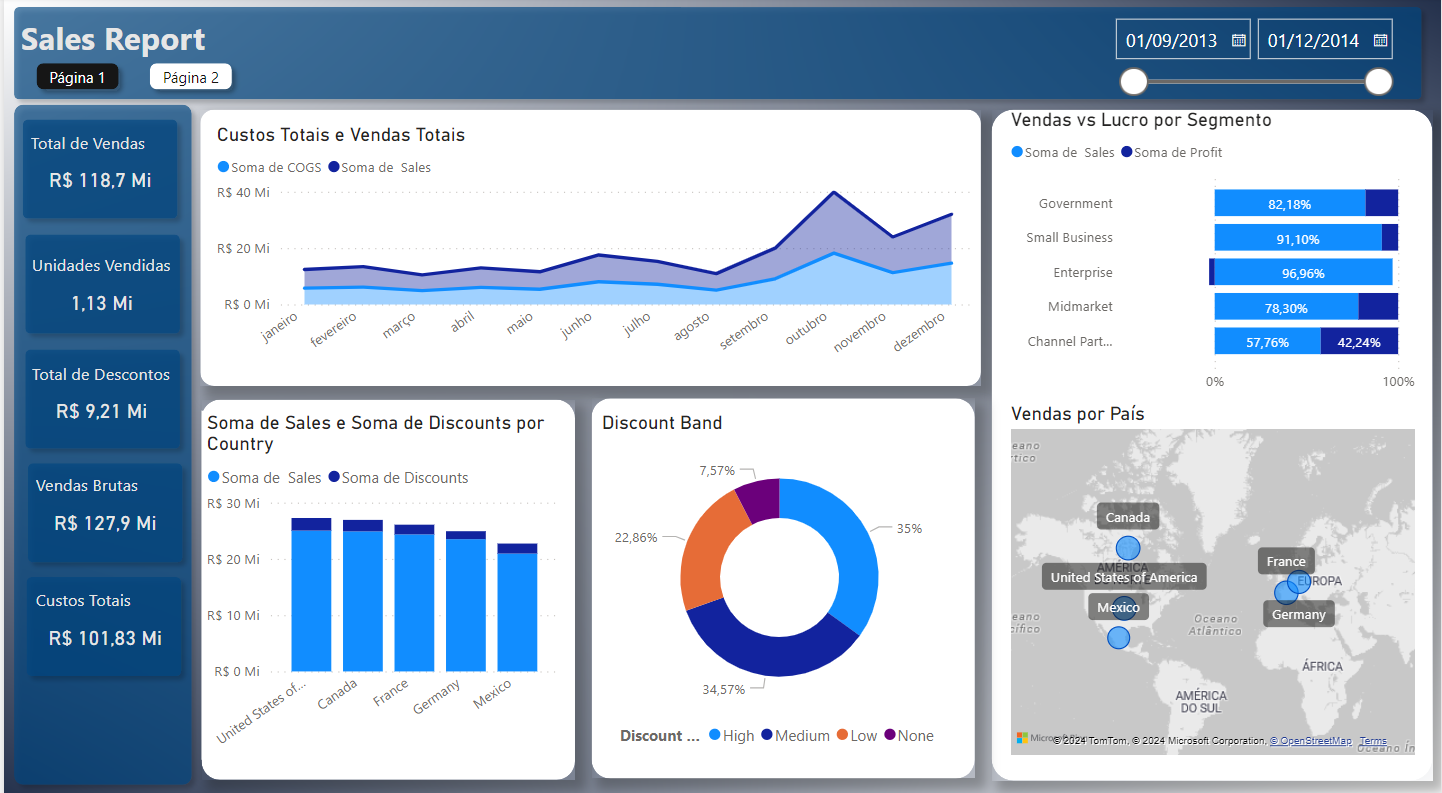

The page's visual inventory and layout, read from the dashboard file:
{"tool":"powerbi","page":{"name":"Página 1","canvas":[1280,720],"ordinal":0},"visuals":[{"type":"shape","box":[0,0,1271,100.1],"z":0},{"type":"textbox","title":"Sales Report","box":[9.6,16.9,202.6,41],"z":1000},{"type":"pageNavigator","box":[20,50,192.5,41.2],"z":2000},{"type":"shape","box":[0,86.8,176.1,623.5],"z":3000},{"type":"shape","box":[7.2,100.1,155.6,106.1],"z":4000},{"type":"card","title":"Total de Vendas","fields":{"Values":["Sum(financials. Sales)"]},"box":[19.3,119.4,133.9,68.7],"z":5000},{"type":"shape","box":[9.6,202.6,155.6,106.1],"z":6000},{"type":"card","title":"Unidades Vendidas","fields":{"Values":["Sum(financials.Units Sold)"]},"box":[20.5,227.9,133.9,68.7],"z":7000},{"type":"shape","box":[9.6,305.1,155.6,106.1],"z":8000},{"type":"card","title":"Total de Descontos","fields":{"Values":["Sum(financials.Discounts)"]},"box":[20.5,324.4,133.9,68.7],"z":9000},{"type":"shape","box":[12.1,406.4,155.6,106.1],"z":10000},{"type":"card","title":"Vendas Brutas","fields":{"Values":["Sum(financials.Gross Sales)"]},"box":[22.9,424.5,133.9,68.7],"z":11000},{"type":"shape","box":[10.9,507.7,155.6,106.1],"z":12000},{"type":"card","title":"Custos Totais","fields":{"Values":["Sum(financials.COGS)"]},"box":[22.9,525.8,133.9,68.7],"z":13000},{"type":"shape","box":[175,100,695,246.2],"z":14000},{"type":"stackedAreaChart","title":"Custos Totais e Vendas Totais","fields":{"Y":["Sum(financials.COGS)","Sum(financials. Sales)"],"Category":["financials.Date.Variation.Hierarquia de datas.Mês"]},"box":[185,112.5,685,222.5],"z":15000},{"type":"shape","box":[878.8,100,392.5,597.5],"z":16000},{"type":"shape","box":[176.2,358.8,332.5,338.8],"z":17000},{"type":"shape","box":[522.5,357.5,341.2,338.8],"z":18000},{"type":"columnChart","fields":{"Category":["financials.Country"],"Y":["Sum(financials. Sales)","Sum(financials.Discounts)"]},"box":[176.2,368.8,323.8,310],"z":19000},{"type":"donutChart","title":"Discount Band","fields":{"Category":["financials.Discount Band"],"Y":["CountNonNull(financials.Discount Band)"]},"box":[527.5,368.8,326.2,307.5],"z":20000},{"type":"map","title":"Vendas por País","fields":{"Category":["financials.Country"],"Size":["Sum(financials. Sales)"]},"box":[891.2,360,370,318.8],"z":21000},{"type":"hundredPercentStackedBarChart","title":"Vendas vs Lucro por Segmento","fields":{"Category":["financials.Segment"],"Y":["Sum(financials. Sales)","Sum(financials.Profit)"]},"box":[891.2,98.8,370,261.2],"z":22000},{"type":"slicer","fields":{"Values":["financials.Date"]},"box":[977.5,8.8,267.5,83.8],"z":23000}]}

Visuals, with their boxes in screenshot pixels (x1, y1, x2, y2), scaled from the page's 1280x720 canvas onto the 1442x793 screenshot:
shape: rect(0, 0, 1432, 110)
"Sales Report" textbox: rect(11, 19, 239, 64)
pageNavigator: rect(23, 55, 239, 100)
shape: rect(0, 96, 198, 782)
shape: rect(8, 110, 183, 227)
"Total de Vendas" card: rect(22, 132, 173, 207)
shape: rect(11, 223, 186, 340)
"Unidades Vendidas" card: rect(23, 251, 174, 327)
shape: rect(11, 336, 186, 453)
"Total de Descontos" card: rect(23, 357, 174, 433)
shape: rect(14, 448, 189, 564)
"Vendas Brutas" card: rect(26, 468, 177, 543)
shape: rect(12, 559, 188, 676)
"Custos Totais" card: rect(26, 579, 177, 655)
shape: rect(197, 110, 980, 381)
"Custos Totais e Vendas Totais" stackedAreaChart: rect(208, 124, 980, 369)
shape: rect(990, 110, 1432, 768)
shape: rect(199, 395, 573, 768)
shape: rect(589, 394, 973, 767)
columnChart - financials.Country x Sum(financials. Sales): rect(199, 406, 563, 748)
"Discount Band" donutChart: rect(594, 406, 962, 745)
"Vendas por País" map: rect(1004, 397, 1421, 748)
"Vendas vs Lucro por Segmento" hundredPercentStackedBarChart: rect(1004, 109, 1421, 397)
slicer - financials.Date: rect(1101, 10, 1403, 102)
